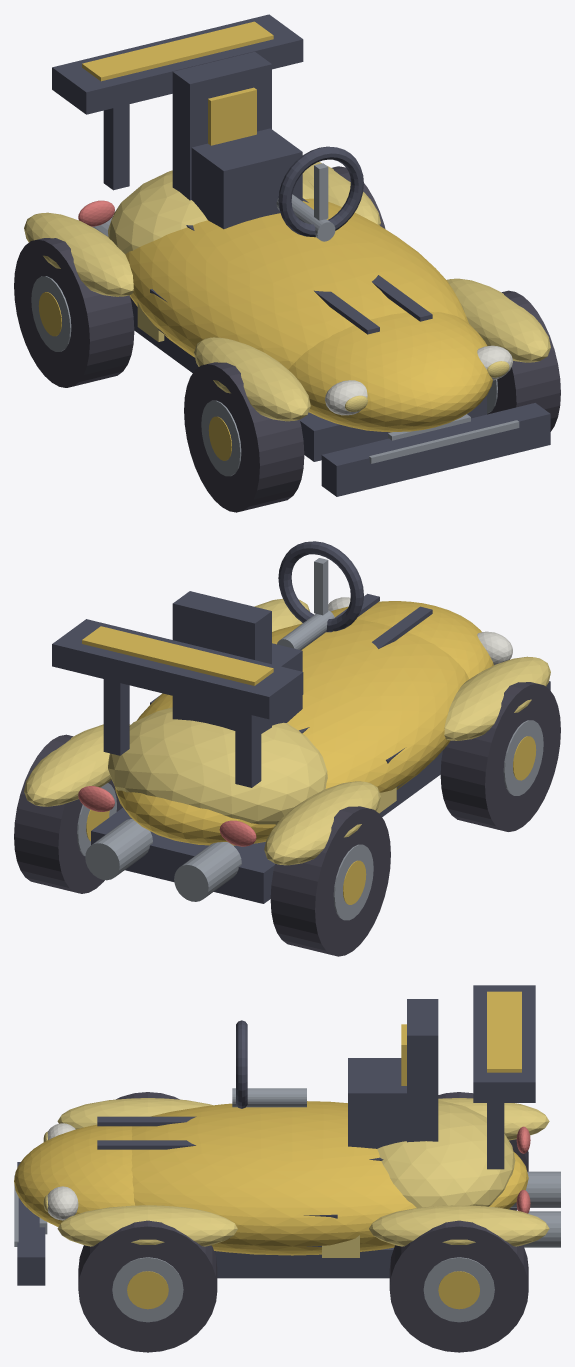
Rendered from zoomie_v1.glb.
3 views of the same model, one above another, from view 1: azimuth 30°, elevation 25°; view 2: azimuth 150°, elevation 25°; view 3: azimuth 270°, elevation 25° (orthographic). The views are drawn at different scales.
Visible parts, largest first — view 1: main_yellow_body, front_nose, front_left_tire, rear_left_tire, front_bumper, racing_seat_base, rear_spoiler, racing_seat_back, wheel_fender_0.88_-1, rear_engine_cover, wheel_fender_-0.91_-1, wheel_fender_0.88_1 (+19 smaller); view 2: main_yellow_body, rear_engine_cover, rear_left_tire, front_left_tire, rear_spoiler, racing_seat_back, rear_right_tire, undertray_chassis, wheel_fender_-0.91_-1, wheel_fender_0.88_-1, wheel_fender_-0.91_1, front_nose (+19 smaller); view 3: main_yellow_body, front_right_tire, rear_right_tire, rear_engine_cover, front_nose, racing_seat_base, wheel_fender_-0.91_1, wheel_fender_0.88_1, rear_spoiler, racing_seat_back, undertray_chassis, spoiler_yellow_inlay (+16 smaller).
Part boxes in pixels (left/top/right/bottom): main_yellow_body: left=125, top=198, right=468, bottom=369; front_nose: left=288, top=311, right=492, bottom=432; front_left_tire: left=184, top=362, right=304, bottom=512; rear_left_tire: left=14, top=238, right=134, bottom=387; front_bumper: left=321, top=403, right=550, bottom=496; racing_seat_base: left=191, top=128, right=302, bottom=229; rear_spoiler: left=52, top=14, right=303, bottom=114; racing_seat_back: left=172, top=51, right=271, bottom=200; wheel_fender_0.88_-1: left=194, top=337, right=310, bottom=421; rear_engine_cover: left=108, top=170, right=313, bottom=254; wheel_fender_-0.91_-1: left=24, top=212, right=133, bottom=296; wheel_fender_0.88_1: left=447, top=278, right=550, bottom=362; main_yellow_body: left=115, top=619, right=469, bottom=845; rear_engine_cover: left=108, top=707, right=327, bottom=824; rear_left_tire: left=270, top=806, right=390, bottom=956; front_left_tire: left=440, top=682, right=560, bottom=831; rear_spoiler: left=52, top=619, right=303, bottom=719; racing_seat_back: left=172, top=591, right=271, bottom=733; rear_right_tire: left=14, top=734, right=122, bottom=893; undertray_chassis: left=91, top=750, right=442, bottom=903; wheel_fender_-0.91_-1: left=264, top=781, right=380, bottom=865; wheel_fender_0.88_-1: left=444, top=656, right=550, bottom=740; wheel_fender_-0.91_1: left=24, top=724, right=130, bottom=806; front_nose: left=331, top=601, right=493, bottom=678; main_yellow_body: left=131, top=1101, right=528, bottom=1255; front_right_tire: left=78, top=1220, right=217, bottom=1352; rear_right_tire: left=389, top=1220, right=528, bottom=1352; rear_engine_cover: left=377, top=1100, right=515, bottom=1207; front_nose: left=14, top=1125, right=134, bottom=1226; racing_seat_base: left=348, top=1058, right=406, bottom=1148; wheel_fender_-0.91_1: left=369, top=1205, right=549, bottom=1246; wheel_fender_0.88_1: left=57, top=1205, right=237, bottom=1246; rear_spoiler: left=473, top=985, right=535, bottom=1102; racing_seat_back: left=407, top=999, right=438, bottom=1142; undertray_chassis: left=214, top=1247, right=393, bottom=1278; spoiler_yellow_inlay: left=487, top=991, right=521, bottom=1072.
Size of the model in its own units: 1.85 by 1.7 by 3.14.
